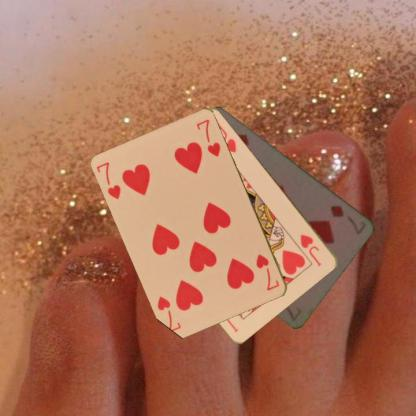7d: (328, 202, 368, 236)
7h: (94, 160, 123, 201), (254, 251, 281, 292)
Jh: (298, 232, 323, 268)
